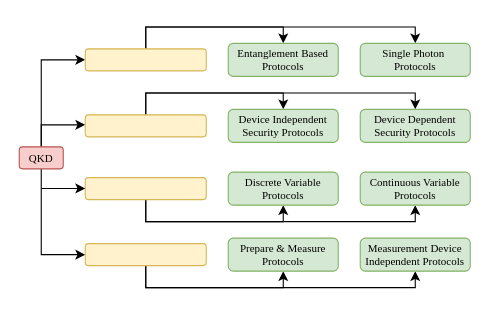
The diagram is 490 pixels wide and 316 high, and some of its shapes have lost their labels. Each missing label, with the centre of its shape:
"Physical Priniples" goes at pixel 145 59.
"Practical Implementation" goes at pixel 145 188.
"Protocol Structure" goes at pixel 145 254.
"Security Properties" goes at pixel 145 125.
